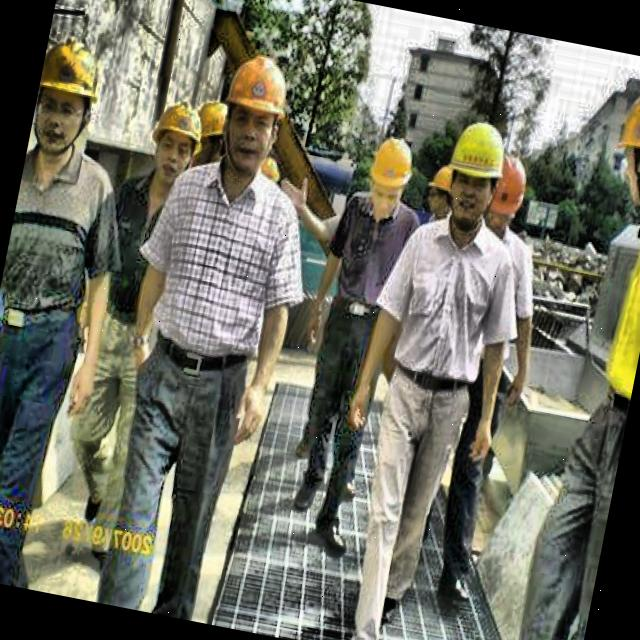helmet: (212, 48, 296, 179), (28, 31, 112, 162), (438, 114, 512, 232), (143, 90, 210, 190), (604, 79, 640, 211), (360, 133, 418, 213), (482, 158, 530, 238), (184, 99, 230, 175), (424, 161, 462, 222)
